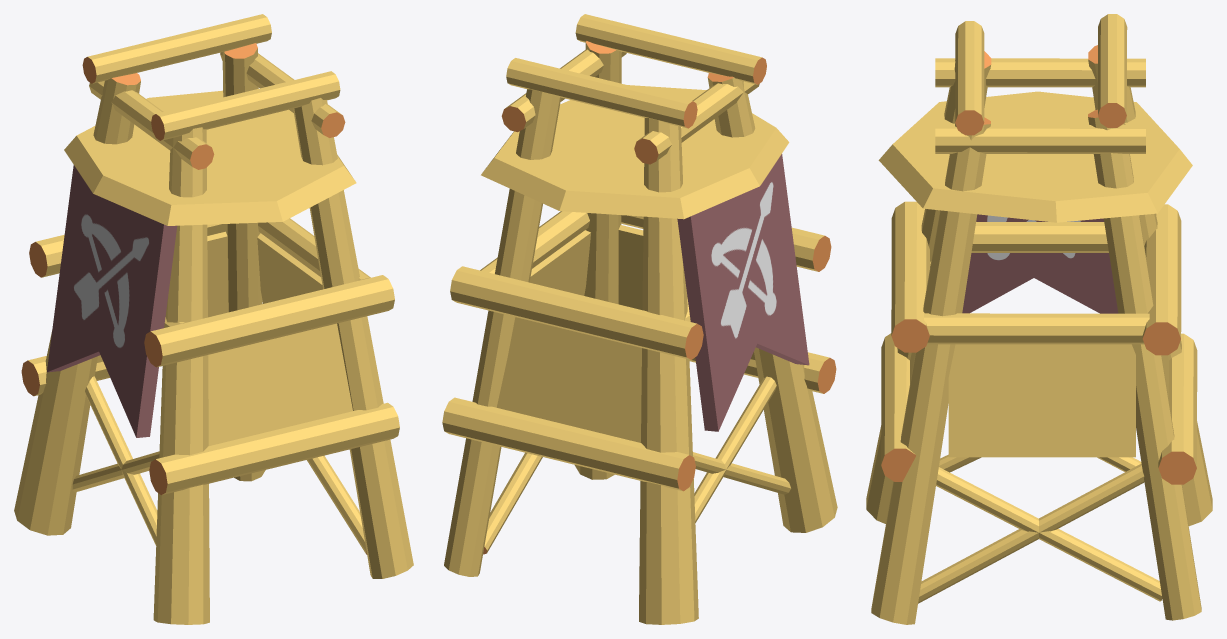
Rendered from Archer_tower.fbx.
The picture shows the model from 3 angles, left to right: view 1: azimuth 30°, elevation 25°; view 2: azimuth 150°, elevation 25°; view 3: azimuth 270°, elevation 25°; orthographic projection. The views are drawn at different scales.
Parts seen in each view (by area): view 1: Cube.030, Cube.118, Cylinder.097, Cylinder.096, Cube.116, Cylinder.098, Cylinder.091, Cylinder.086, Cylinder.090, Cylinder.088, Cylinder.095, Cube.115 (+9 smaller); view 2: Cube.030, Cube.118, Cylinder.098, Cube.117, Cylinder.095, Cylinder.097, Cylinder.092, Cylinder.085, Cylinder.090, Cylinder.088, Cylinder.096, Cylinder.089 (+9 smaller); view 3: Cube.115, Cube.118, Cylinder.096, Cylinder.095, Cube.030, Cylinder.093, Cylinder.087, Cylinder.091, Cylinder.092, Cylinder.082, Cylinder.081, Cylinder.089 (+7 smaller).
Part boxes in pixels (x1,y1,x2,y2): Cube.030: [47, 165, 177, 437]; Cube.118: [64, 90, 356, 225]; Cylinder.097: [153, 127, 209, 624]; Cylinder.096: [293, 98, 413, 578]; Cube.116: [208, 323, 352, 445]; Cylinder.098: [14, 73, 140, 535]; Cylinder.091: [144, 275, 394, 367]; Cylinder.086: [149, 402, 399, 495]; Cylinder.090: [82, 14, 271, 83]; Cylinder.088: [151, 71, 340, 140]; Cylinder.095: [222, 43, 265, 481]; Cube.115: [257, 233, 322, 303]; Cube.030: [677, 154, 809, 431]; Cube.118: [481, 85, 789, 219]; Cylinder.098: [639, 118, 698, 624]; Cube.117: [496, 317, 641, 442]; Cylinder.095: [444, 89, 560, 576]; Cylinder.097: [707, 72, 837, 532]; Cylinder.092: [450, 266, 703, 359]; Cylinder.085: [442, 397, 695, 491]; Cylinder.090: [506, 58, 697, 128]; Cylinder.088: [575, 14, 766, 84]; Cylinder.096: [574, 41, 621, 479]; Cylinder.089: [634, 81, 759, 164]; Cube.115: [948, 344, 1135, 457]; Cube.118: [878, 91, 1192, 222]; Cylinder.096: [871, 117, 990, 624]; Cylinder.095: [1088, 109, 1201, 620]; Cube.030: [962, 214, 1118, 313]; Cylinder.093: [924, 313, 1149, 344]; Cylinder.087: [935, 125, 1145, 153]; Cylinder.091: [891, 201, 929, 352]; Cylinder.092: [1142, 204, 1181, 355]; Cylinder.082: [918, 463, 1144, 603]; Cylinder.081: [936, 467, 1162, 601]; Cylinder.089: [935, 58, 1145, 87].
Bounding box in the file's own units: 211 × 388 × 239.
